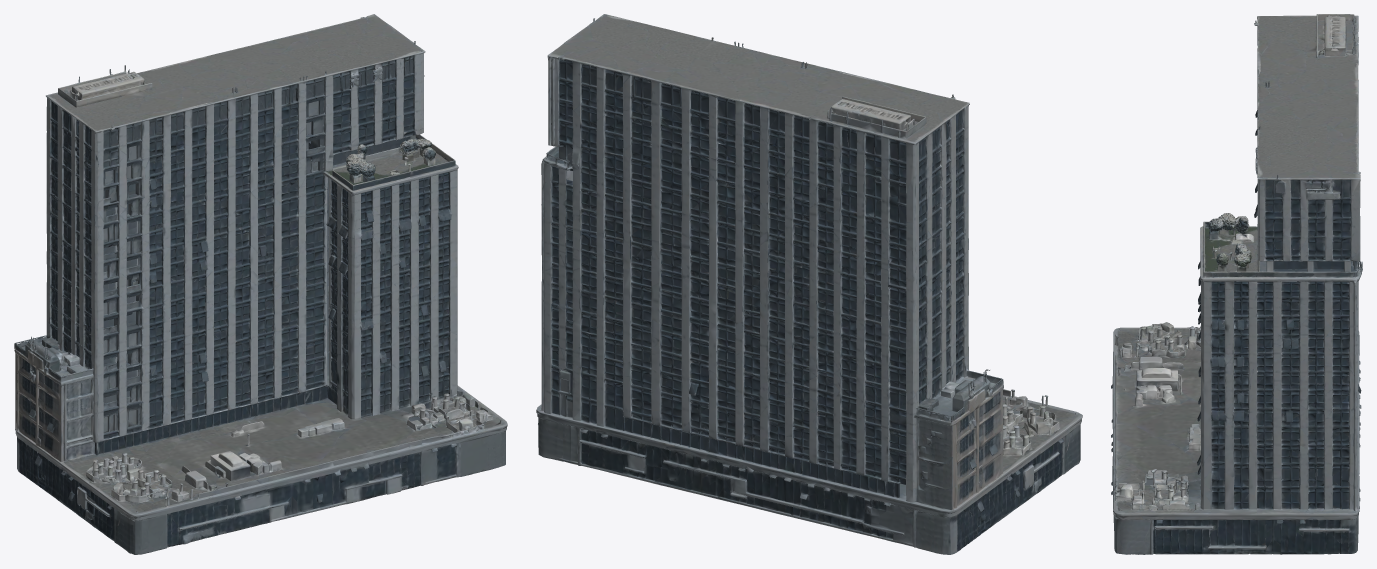
Rendered from 3eba9867-8774-494a-884b-a284584f3b36.glb.
3 views of the same model, side by side, from view 1: azimuth 30°, elevation 25°; view 2: azimuth 150°, elevation 25°; view 3: azimuth 270°, elevation 25° (orthographic). The views are drawn at different scales.
Size of the model in its own units: 1.9 by 1.8 by 1.07.
Materials: 1 (1 with a texture image).
